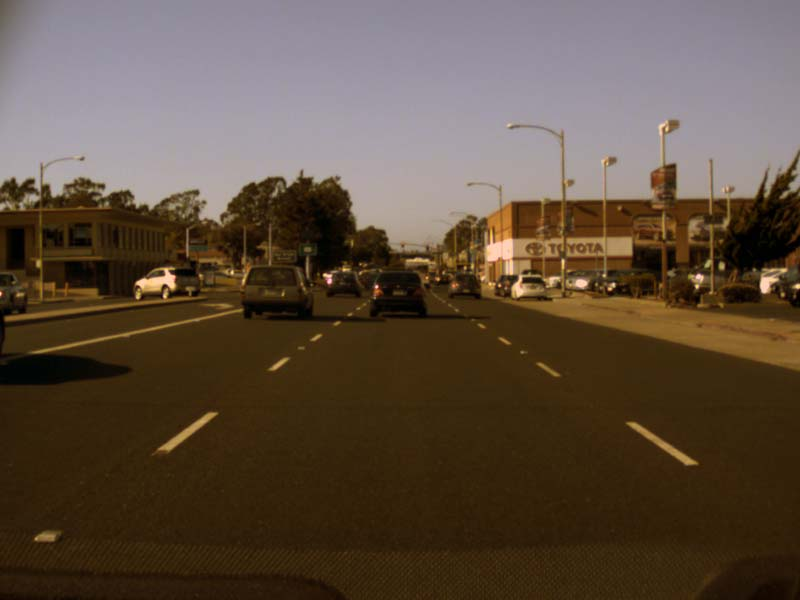Red: (401, 241, 404, 247)
